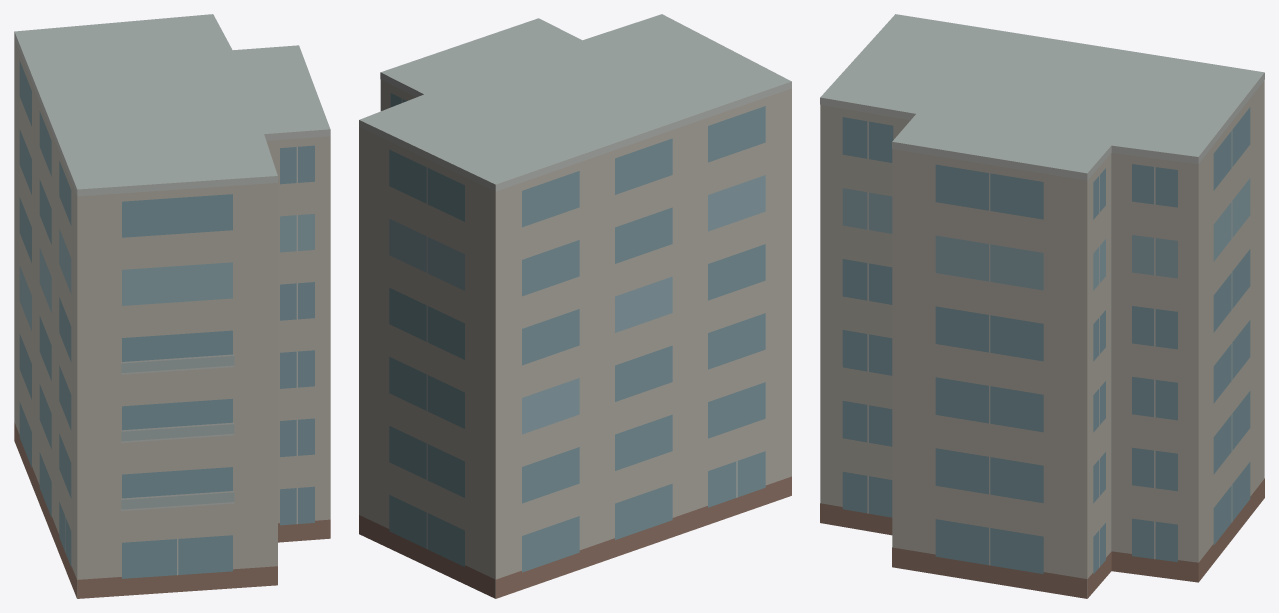
File: survey-upis-32988213.glb
3 views of the same model, side by side, from view 1: azimuth 30°, elevation 25°; view 2: azimuth 150°, elevation 25°; view 3: azimuth 270°, elevation 25° (orthographic). The views are drawn at different scales.
Parts seen in each view (by area): view 1: survey-upis-32988213.tmp; view 2: survey-upis-32988213.tmp; view 3: survey-upis-32988213.tmp.
Part boxes in pixels (left/top/right/bottom): survey-upis-32988213.tmp: left=14, top=14, right=330, bottom=598; survey-upis-32988213.tmp: left=359, top=14, right=791, bottom=598; survey-upis-32988213.tmp: left=820, top=14, right=1264, bottom=598.
Bounding box in the file's own units: 11.66 × 14.5 × 13.74.
